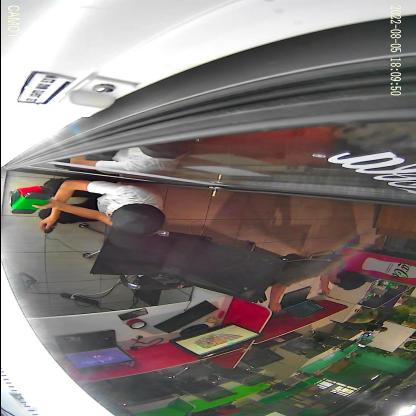green: (10, 192, 52, 214)
red: (8, 186, 50, 207)
